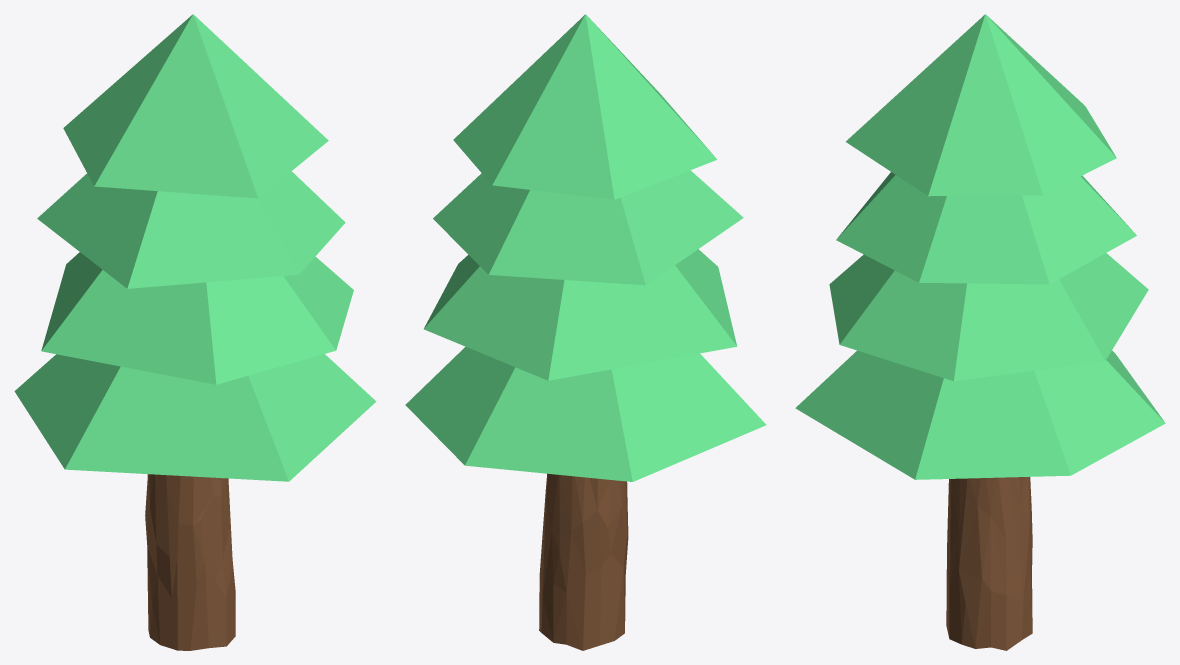
Rendered from pine_tree.fbx.
The picture shows the model from 3 angles, left to right: view 1: azimuth 30°, elevation 25°; view 2: azimuth 150°, elevation 25°; view 3: azimuth 270°, elevation 25°; orthographic projection.
Visible parts, largest first — view 1: Cone.002, Cone.004, Cone.001, Cone.003, Cylinder; view 2: Cone.002, Cone.004, Cone.001, Cone.003, Cylinder; view 3: Cone.002, Cone.004, Cone.001, Cone.003, Cylinder.
Boxes of the visible parts, x1,y1,x2,y2 form: Cone.002: (14,354,376,481); Cone.004: (63,14,328,198); Cone.001: (41,252,353,384); Cone.003: (37,171,345,288); Cylinder: (145,474,235,650); Cone.002: (405,346,766,481); Cone.004: (453,14,717,199); Cone.001: (424,249,737,380); Cone.003: (433,170,743,285); Cylinder: (539,473,628,650); Cone.002: (795,350,1165,479); Cone.004: (845,14,1116,196); Cone.001: (829,253,1148,381); Cone.003: (836,172,1136,284); Cylinder: (946,477,1032,650).
Size of the model in its own units: 845 by 1661 by 901.
